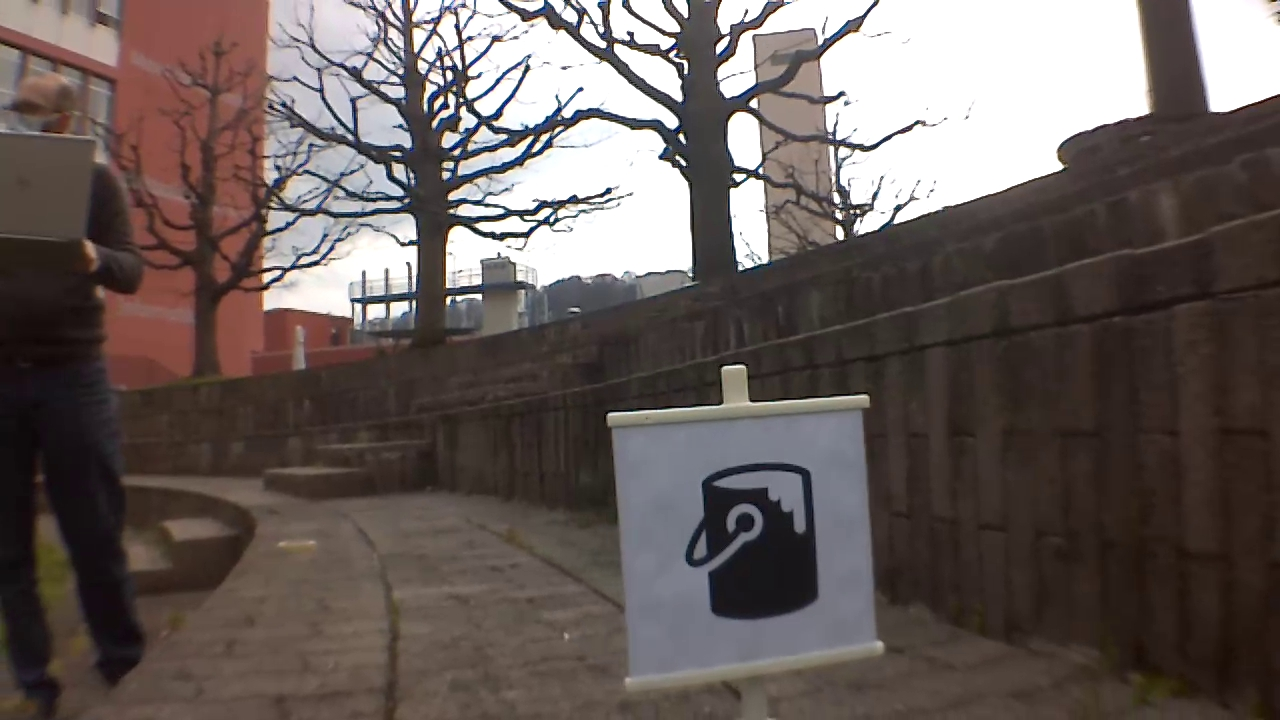bucket: (687, 454, 824, 627)
